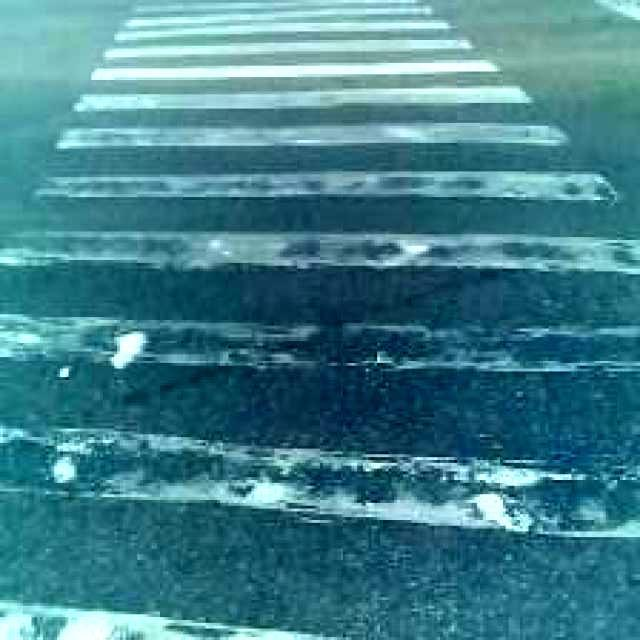crosswalk: (5, 0, 633, 562)
